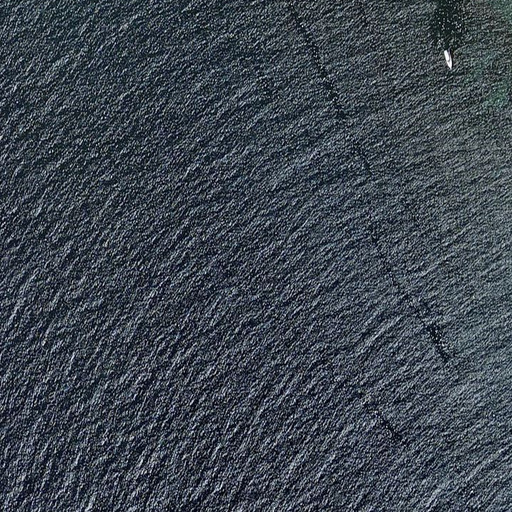ship: (441, 49, 455, 68)
